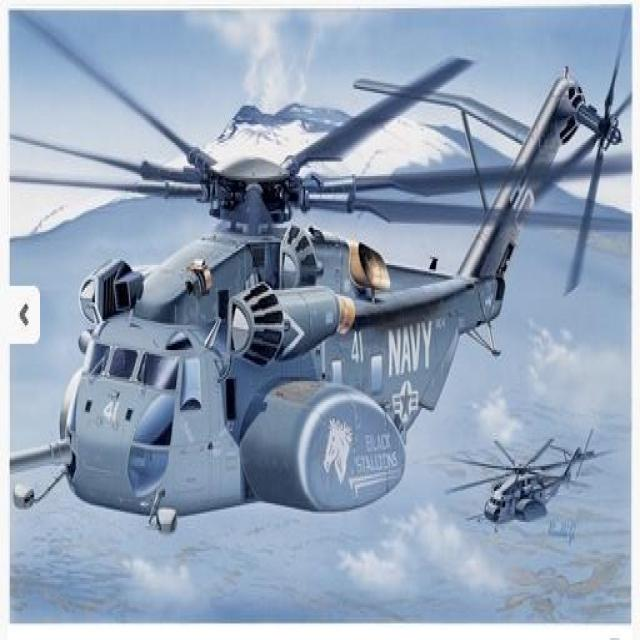MIL_HELO: (0, 0, 635, 547)
